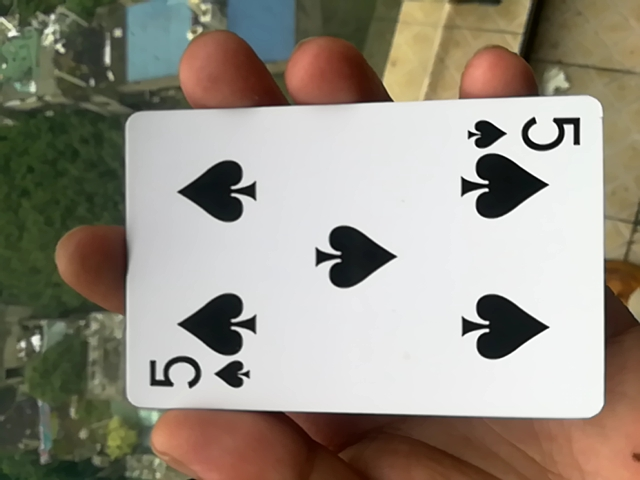ht 5: (103, 102, 609, 431)
